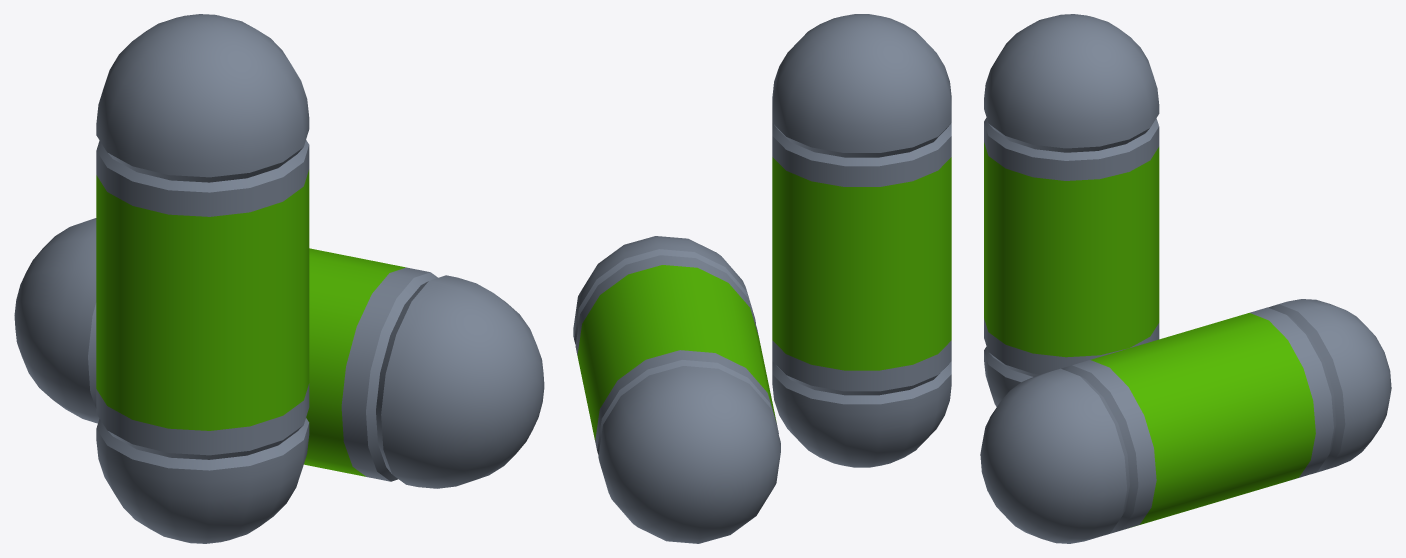
The model's file is grenades.fbx.
3 renders of one model, left to right at view 1: azimuth 30°, elevation 25°; view 2: azimuth 150°, elevation 25°; view 3: azimuth 270°, elevation 25°, orthographic. The views are drawn at different scales.
Parts seen in each view (by area): view 1: grenades; view 2: grenades; view 3: grenades.
Part boxes in pixels (left/top/right/bottom): grenades: left=14, top=14, right=544, bottom=543; grenades: left=573, top=14, right=951, bottom=543; grenades: left=980, top=14, right=1391, bottom=543.
Bounding box in the file's own units: 10.21 × 11.93 × 10.58.
